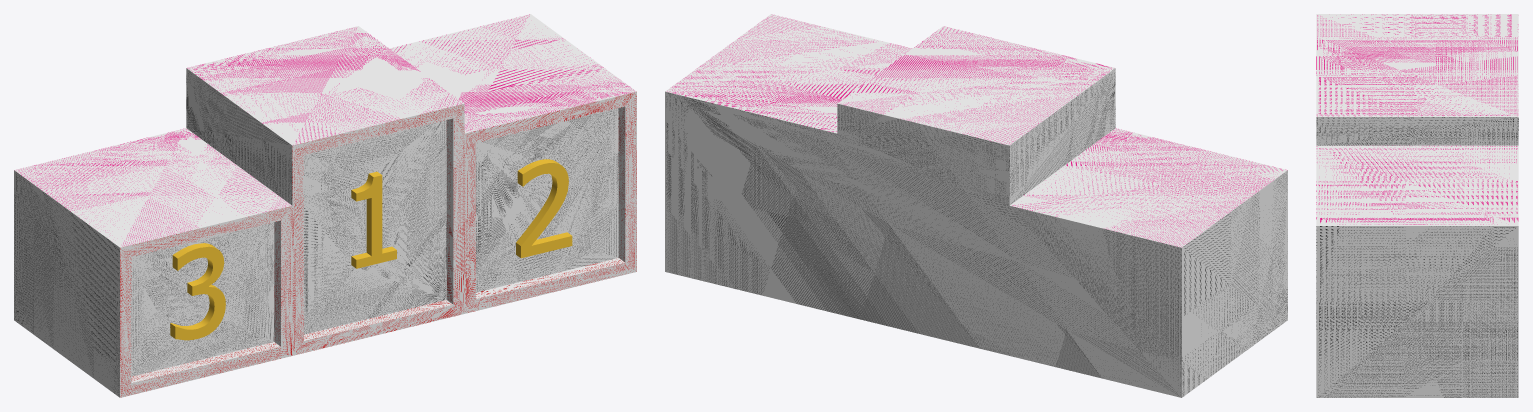
File: stage.dae
3 renders of one model, left to right at view 1: azimuth 30°, elevation 25°; view 2: azimuth 150°, elevation 25°; view 3: azimuth 270°, elevation 25°, orthographic. The views are drawn at different scales.
Parts seen in each view (by area): view 1: Group_1 (×14); view 2: Group_1 (×4); view 3: Group_1 (×5).
Part boxes in pixels (left/top/right/bottom): Group_1 (×14): left=14, top=14, right=636, bottom=397; Group_1 (×4): left=665, top=14, right=1287, bottom=397; Group_1 (×5): left=1316, top=14, right=1518, bottom=397.
Bounding box in the file's own units: 70.87 × 25.2 × 27.56.
